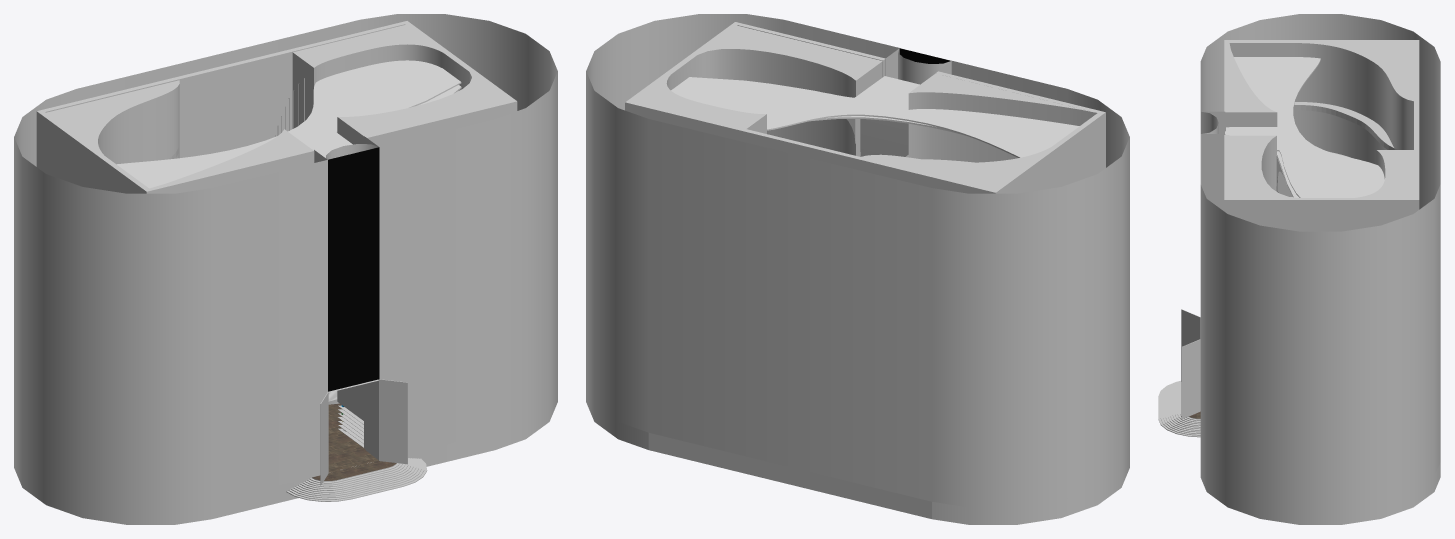
The model's file is CommercialStreet.fbx.
The picture shows the model from 3 angles, left to right: view 1: azimuth 30°, elevation 25°; view 2: azimuth 150°, elevation 25°; view 3: azimuth 270°, elevation 25°; orthographic projection. The views are drawn at different scales.
Visible parts, largest first — view 1: Cylinder.011, Plane.012, Cylinder.018, BezierCurve.014, BezierCurve.018, Cylinder.016, BezierCurve.011, Cube.035, Plane.079, Plane.067, BezierCurve.010, Plane.077 (+1 smaller); view 2: Cylinder.011, BezierCurve.014, BezierCurve.018, Plane.012, Cylinder.016, BezierCurve.010, BezierCurve.011, Plane.078, Cylinder.017; view 3: Cylinder.011, BezierCurve.011, BezierCurve.018, Plane.012, BezierCurve.014, Cylinder.016, BezierCurve.010, Cube.035, Plane.079, BezierCurve.021, Plane.077, Cylinder.017.
Part boxes in pixels (left/top/right/bottom): Cylinder.011: left=14, top=14, right=557, bottom=507; Plane.012: left=36, top=21, right=517, bottom=449; Cylinder.018: left=328, top=147, right=379, bottom=391; BezierCurve.014: left=292, top=24, right=509, bottom=420; BezierCurve.018: left=117, top=60, right=461, bottom=188; Cylinder.016: left=14, top=385, right=557, bottom=524; BezierCurve.011: left=46, top=80, right=179, bottom=164; Cube.035: left=286, top=458, right=427, bottom=501; Plane.079: left=379, top=379, right=407, bottom=464; Plane.067: left=328, top=403, right=378, bottom=472; BezierCurve.010: left=155, top=129, right=310, bottom=186; Plane.077: left=320, top=391, right=328, bottom=485; Cylinder.011: left=586, top=14, right=1129, bottom=507; BezierCurve.014: left=633, top=25, right=882, bottom=156; BezierCurve.018: left=671, top=76, right=1079, bottom=157; Plane.012: left=625, top=22, right=1105, bottom=193; Cylinder.016: left=586, top=385, right=1129, bottom=524; BezierCurve.010: left=908, top=73, right=1097, bottom=162; BezierCurve.011: left=861, top=147, right=1050, bottom=189; Plane.078: left=860, top=119, right=908, bottom=156; Cylinder.017: left=898, top=48, right=951, bottom=84; Cylinder.011: left=1200, top=14, right=1440, bottom=509; BezierCurve.011: left=1229, top=42, right=1413, bottom=196; BezierCurve.018: left=1226, top=57, right=1384, bottom=197; Plane.012: left=1224, top=40, right=1419, bottom=231; BezierCurve.014: left=1229, top=135, right=1413, bottom=197; Cylinder.016: left=1200, top=462, right=1440, bottom=524; BezierCurve.010: left=1229, top=43, right=1277, bottom=126; Cube.035: left=1158, top=381, right=1200, bottom=437; Plane.079: left=1181, top=339, right=1200, bottom=419; BezierCurve.021: left=1277, top=102, right=1397, bottom=197; Plane.077: left=1181, top=309, right=1200, bottom=381; Cylinder.017: left=1200, top=111, right=1218, bottom=184.
Size of the model in its own units: 57809 by 36344 by 31684.
